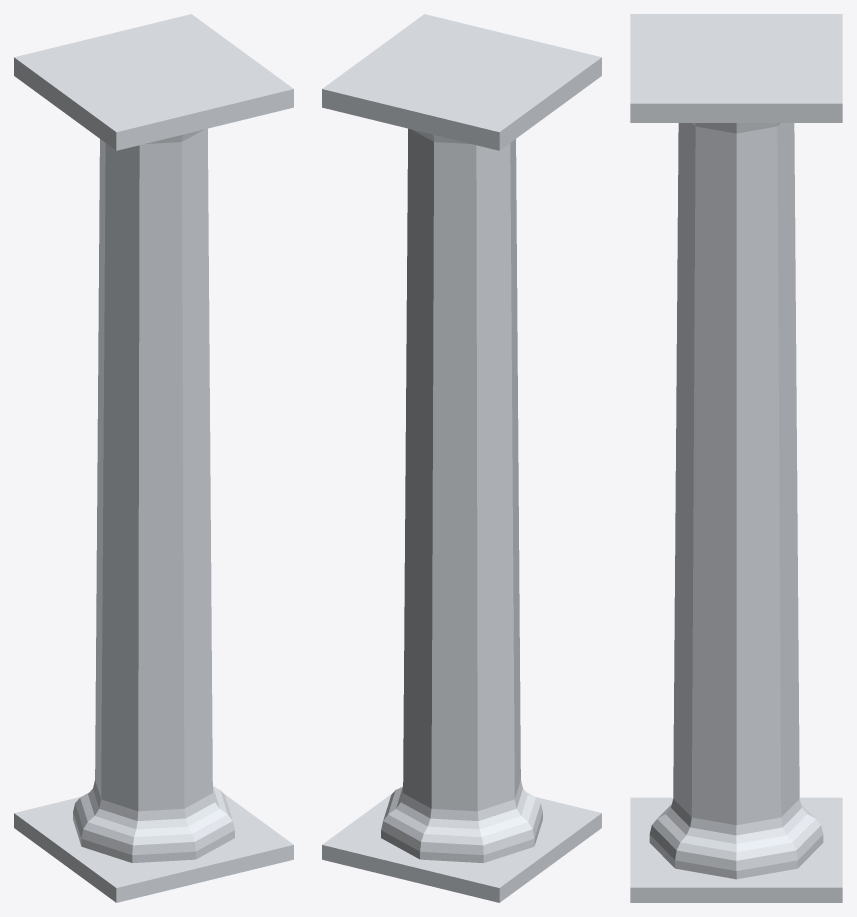
File: Pilar.fbx
3 views of the same model, side by side, from view 1: azimuth 30°, elevation 25°; view 2: azimuth 150°, elevation 25°; view 3: azimuth 270°, elevation 25° (orthographic). The views are drawn at different scales.
Parts seen in each view (by area): view 1: Pilar; view 2: Pilar; view 3: Pilar.
Boxes of the visible parts, left/top/right/bottom form: Pilar: left=14, top=14, right=293, bottom=902; Pilar: left=322, top=14, right=601, bottom=902; Pilar: left=630, top=14, right=842, bottom=902.
Bounding box in the file's own units: 192 × 797 × 192.
